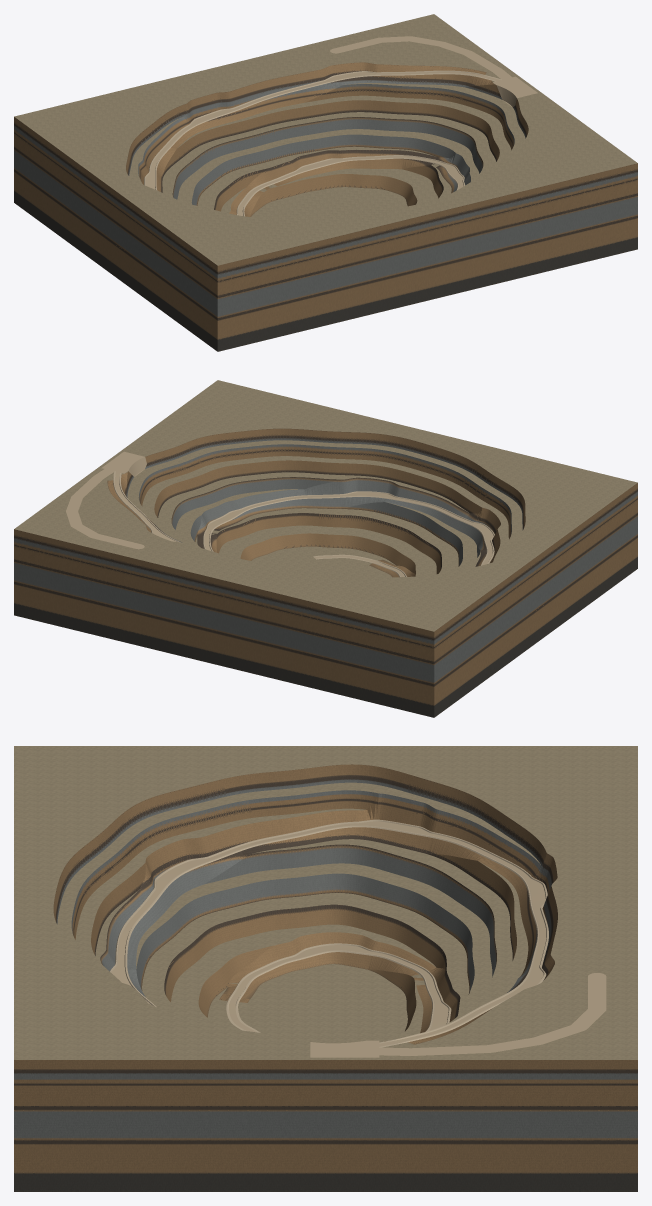
The model's file is terrain.glb.
The picture shows the model from 3 angles, top to bottom: view 1: azimuth 30°, elevation 25°; view 2: azimuth 150°, elevation 25°; view 3: azimuth 270°, elevation 25°; orthographic projection. The views are drawn at different scales.
Parts seen in each view (by area): view 1: GEO_001 / solid terraced ground; view 2: GEO_001 / solid terraced ground; view 3: GEO_001 / solid terraced ground.
Part boxes in pixels (bbox=[...]): GEO_001 / solid terraced ground: bbox=[14, 14, 637, 351]; GEO_001 / solid terraced ground: bbox=[14, 380, 637, 717]; GEO_001 / solid terraced ground: bbox=[14, 746, 637, 1191].
Size of the model in its own units: 1000 by 196 by 840.
5 materials, 2 textured.
